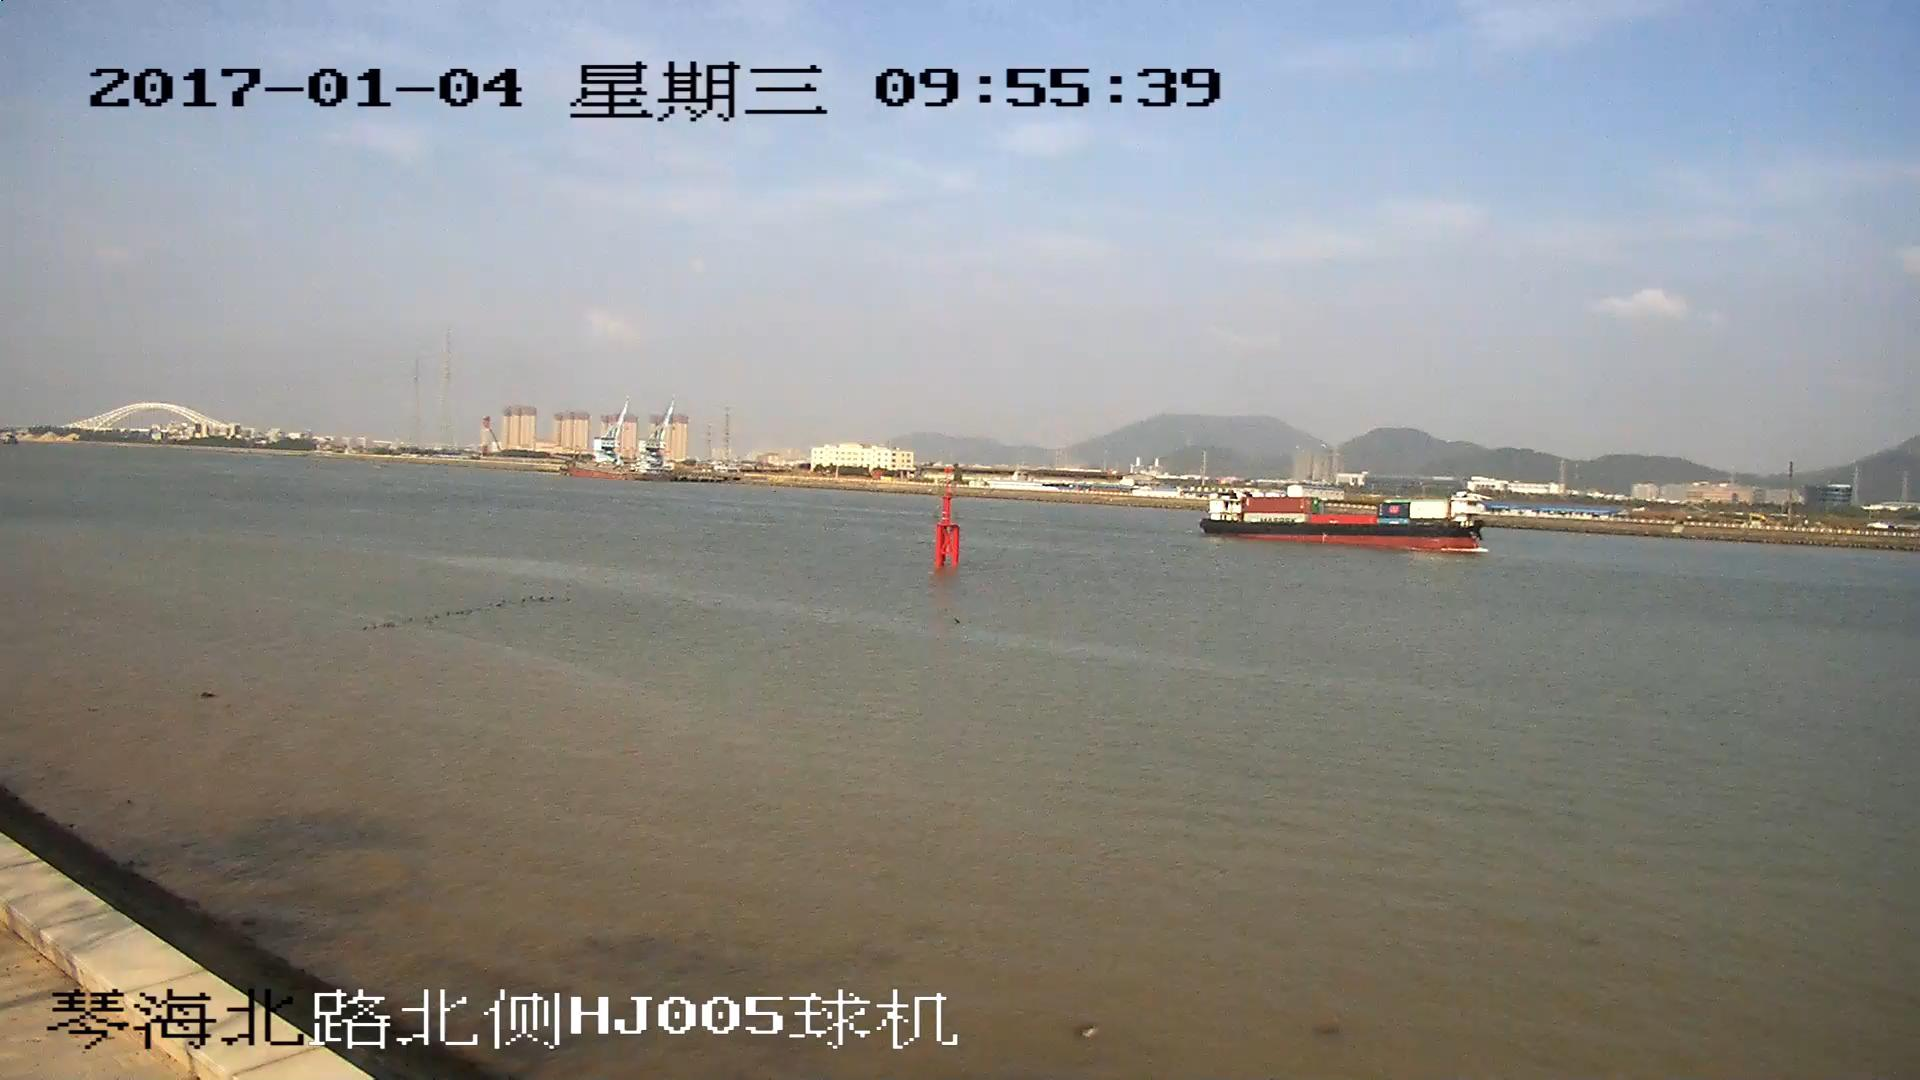Ship: (1207, 495, 1487, 553)
